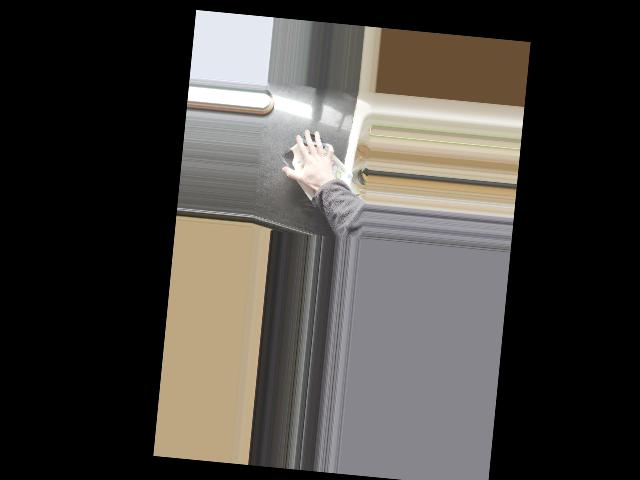cheese: (276, 128, 359, 210)
